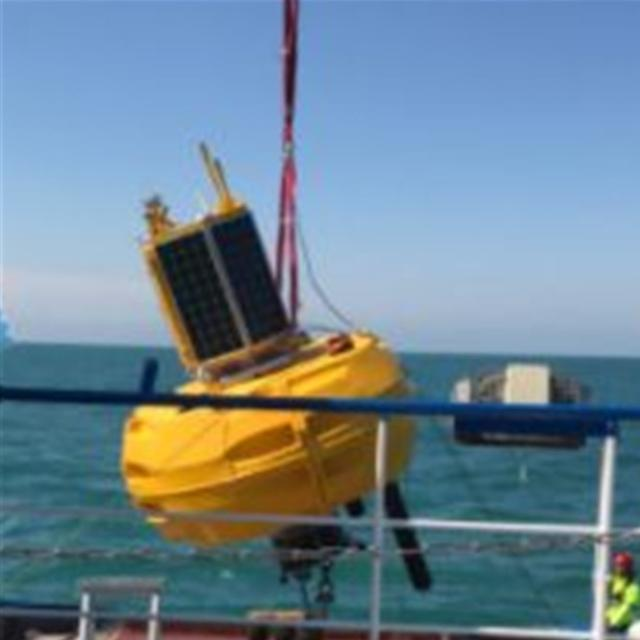buoy: (114, 160, 416, 538)
